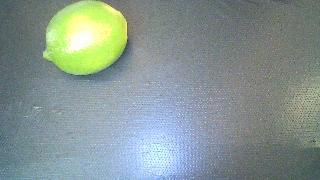EXPORTACION: (43, 0, 128, 75)
